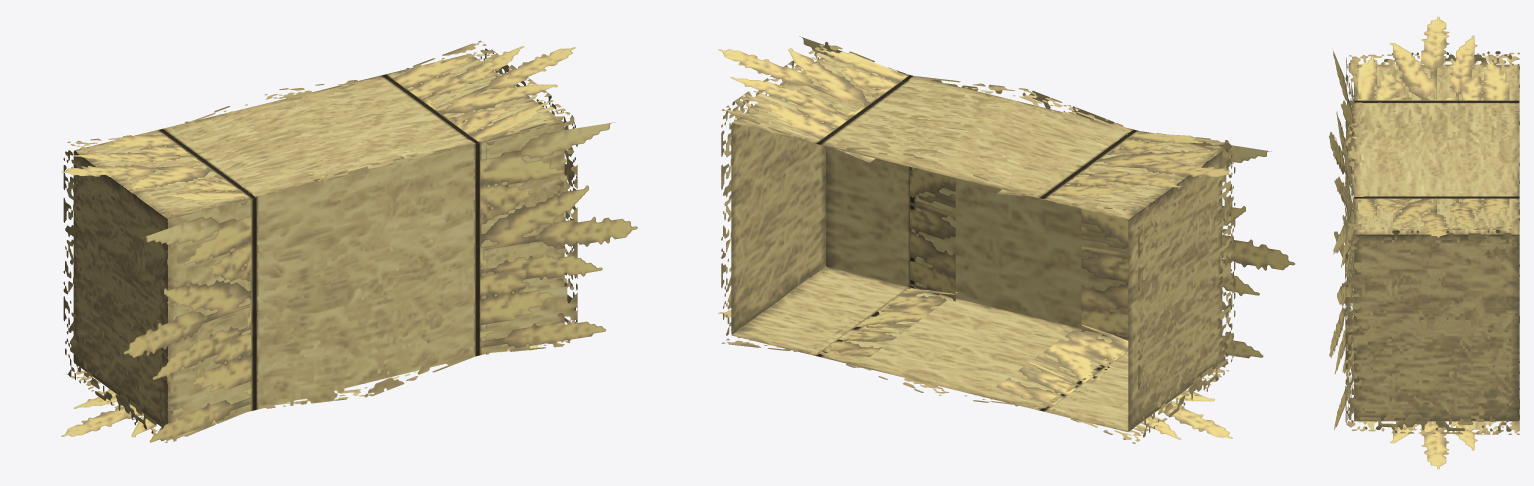
The model's file is keep-i0-model.obj.
The picture shows the model from 3 angles, left to right: view 1: azimuth 30°, elevation 25°; view 2: azimuth 150°, elevation 25°; view 3: azimuth 270°, elevation 25°; orthographic projection. The views are drawn at different scales.
Bounding box in the file's own units: 1.19 × 0.5764 × 0.4286.
1 material, 1 textured.
